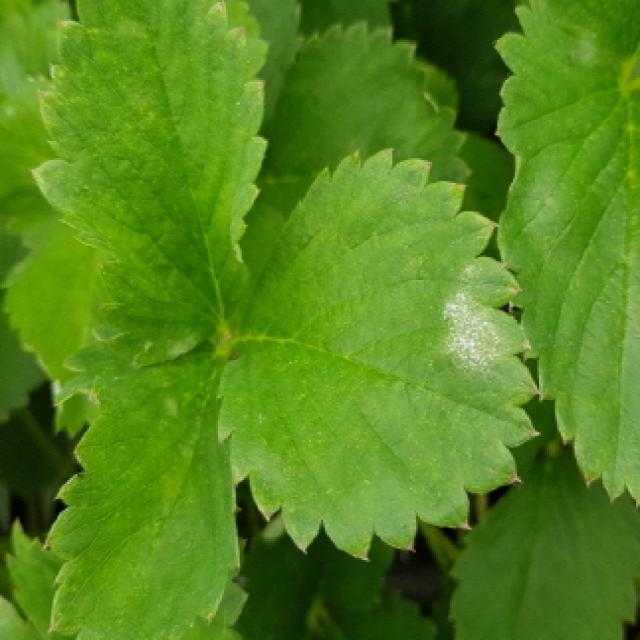Powdery Mildew Leaf: (212, 145, 542, 561)
